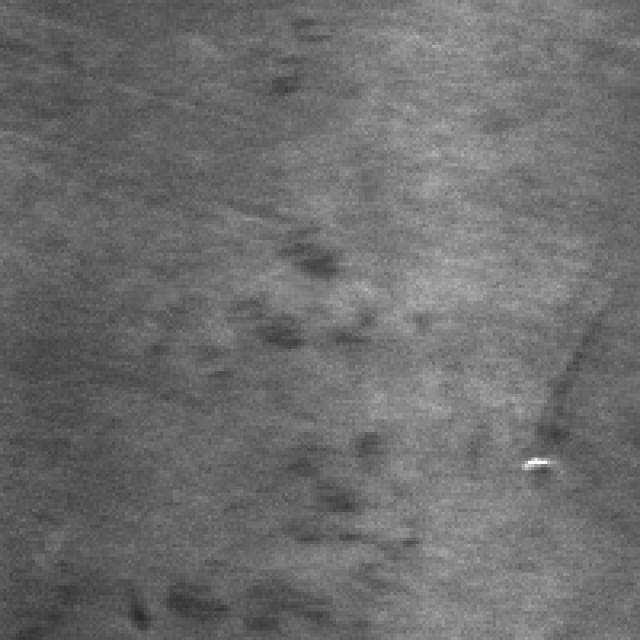rolled-in_scale: (134, 214, 420, 630), (276, 10, 342, 96)
